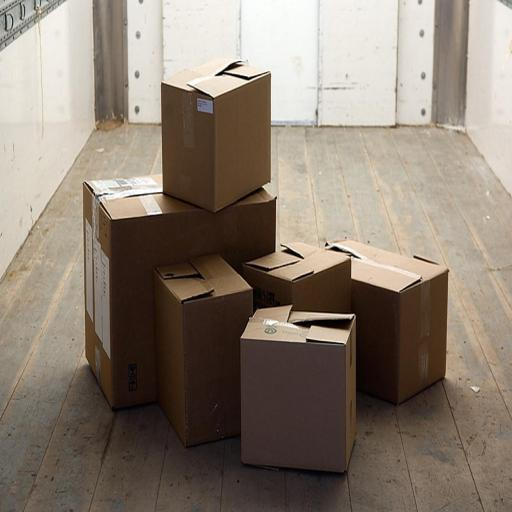cardboard: (84, 178, 278, 412), (322, 236, 450, 408), (151, 253, 254, 451), (239, 306, 358, 474), (160, 56, 272, 214), (243, 240, 352, 313)
